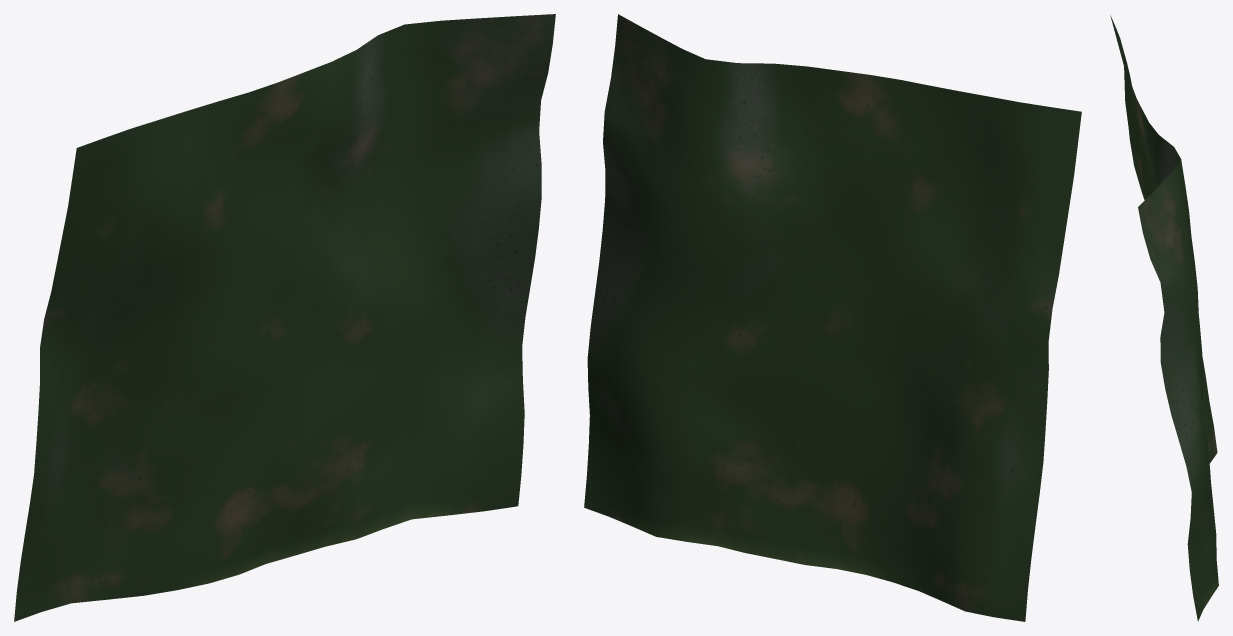
File: terrain_far_00_00.obj
The picture shows the model from 3 angles, left to right: view 1: azimuth 30°, elevation 25°; view 2: azimuth 150°, elevation 25°; view 3: azimuth 270°, elevation 25°; orthographic projection. The views are drawn at different scales.
Visible parts, largest first — view 1: terrain_far_00_00; view 2: terrain_far_00_00; view 3: terrain_far_00_00.
Part boxes in pixels (x1,y1,x2,y2): terrain_far_00_00: (14,14,555,621); terrain_far_00_00: (584,14,1081,621); terrain_far_00_00: (1110,15,1218,621).
Size of the model in its own units: 640 by 640 by 152.
Materials: 1 (1 with a texture image).
